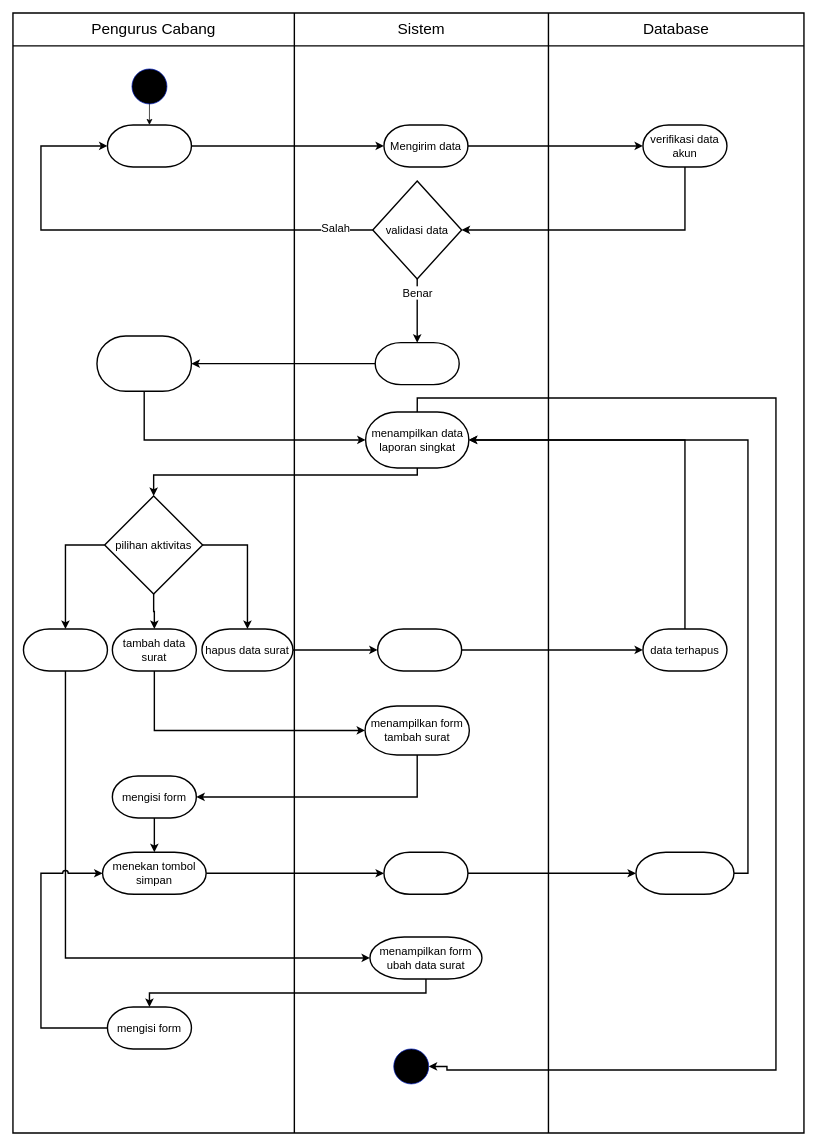
This 816x1145 diagram has some shape labels left out. The box of each missing label's shape, as (x1, y1, x2, y2) in pixels:
data tersimpan: (635, 851, 734, 895)
login: (106, 124, 192, 167)
memproses simpan: (383, 851, 468, 895)
Menampilkan Menu: (374, 342, 460, 385)
menekan menu data anggota: (96, 335, 192, 392)
proses hapus: (377, 628, 462, 671)
ubah data surat: (22, 628, 108, 671)
